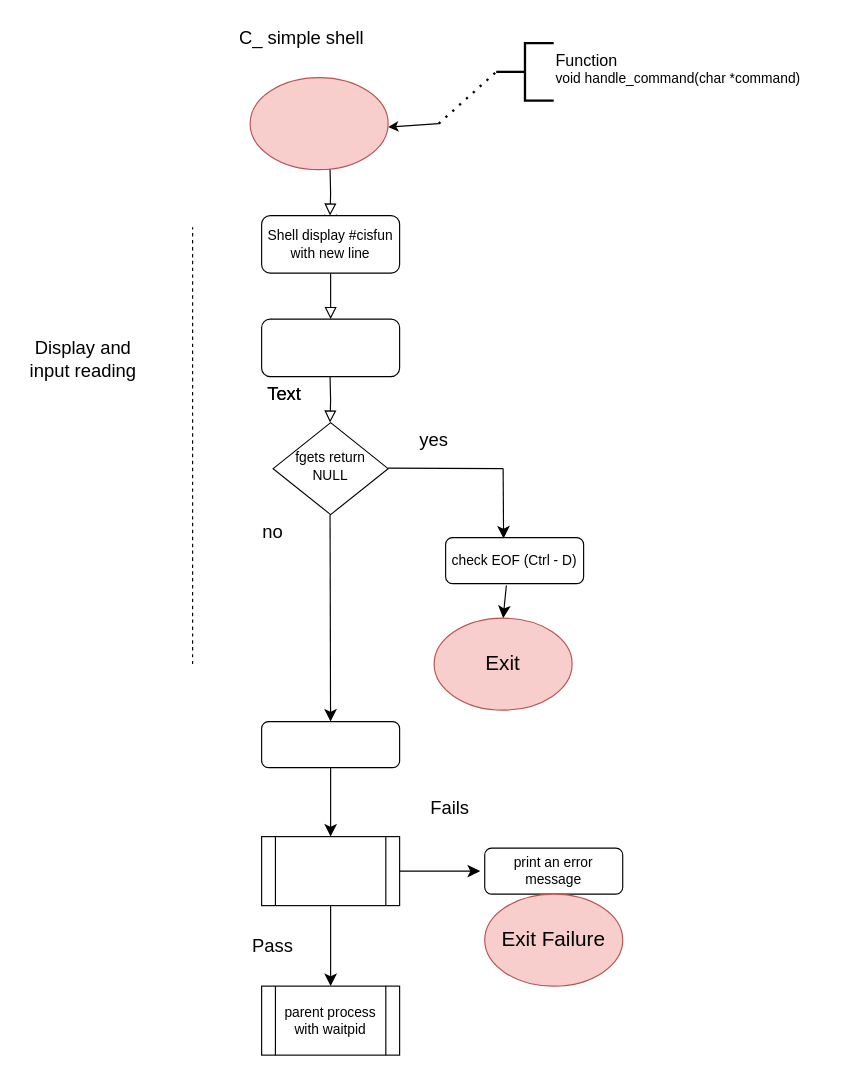
This 867x1075 diagram has some shape labels left out. Each missing label, with the box of its shape:
child process with execve: (260, 835, 400, 906)
command an execution shell: (260, 720, 400, 768)
Start ./shell: (249, 76, 388, 170)
uses fgets: (260, 318, 400, 377)
